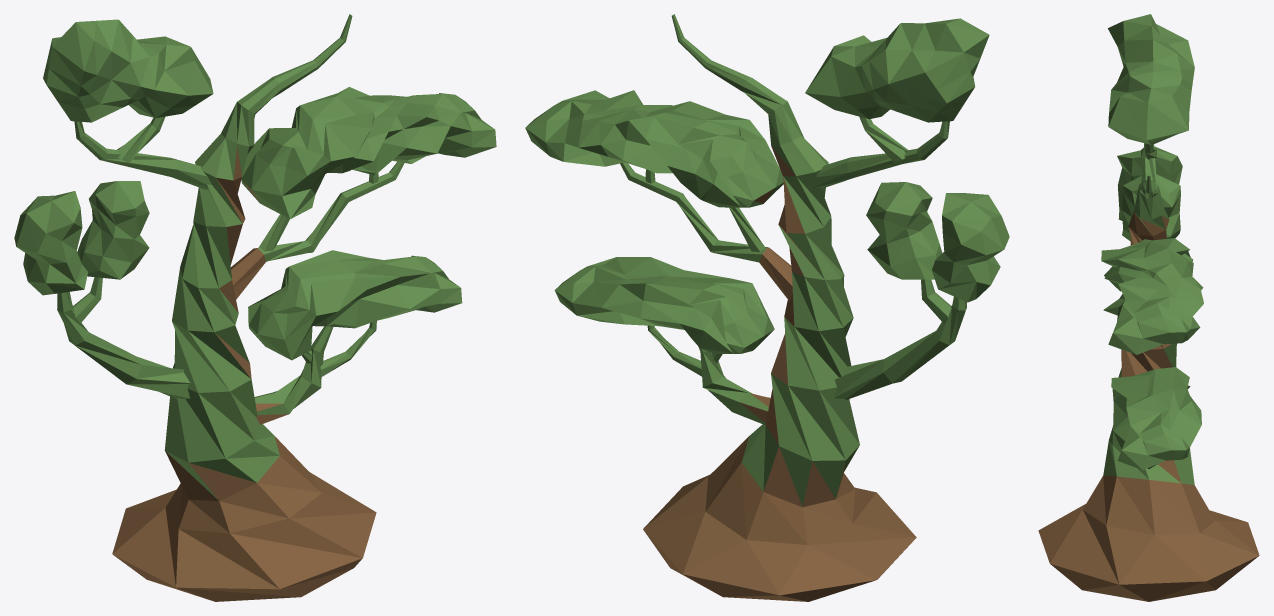
Rendered from tree3d-064.glb.
3 views of the same model, side by side, from view 1: azimuth 30°, elevation 25°; view 2: azimuth 150°, elevation 25°; view 3: azimuth 270°, elevation 25° (orthographic). The views are drawn at different scales.
Visible parts, largest first — view 1: tree3d-064; view 2: tree3d-064; view 3: tree3d-064.
Part boxes in pixels (x1=…): tree3d-064: x1=14, y1=14, x2=496, y2=601; tree3d-064: x1=525, y1=14, x2=1009, y2=601; tree3d-064: x1=1038, y1=14, x2=1259, y2=601.
Bounding box in the file's own units: 0.8481 × 1 × 0.4181.
